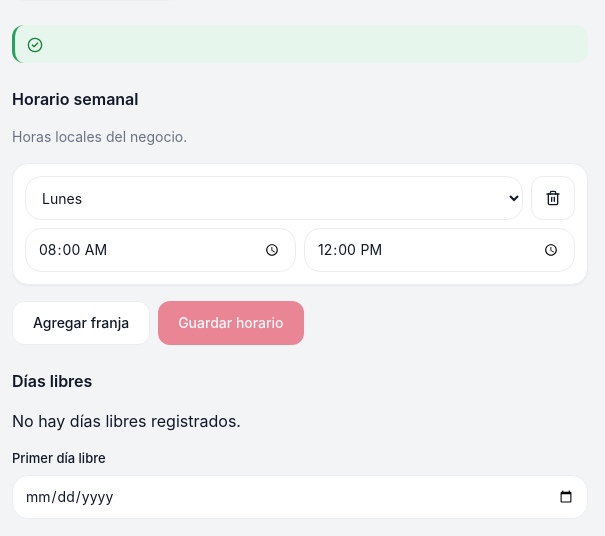
Test: TechnicianDetailPage: horario semanal › muestra error en las franjas solapadas y no envía nada
(page scrolled)
Check: the time field named "Inicio de la franja 1" is shown, box [25,228,296,272]
Click the button "Agregar franja" at (81, 323), box [12,301,150,345]
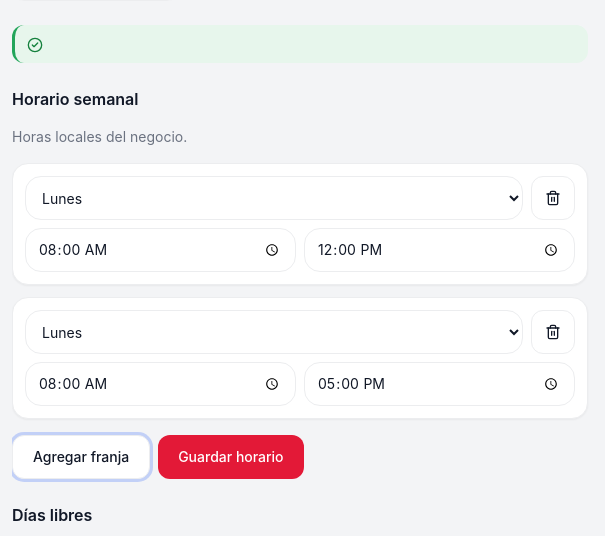
Replace the text in the time field named "Inicio de la franja 2" with "11:00" at (160, 384), box [25,362,296,406]
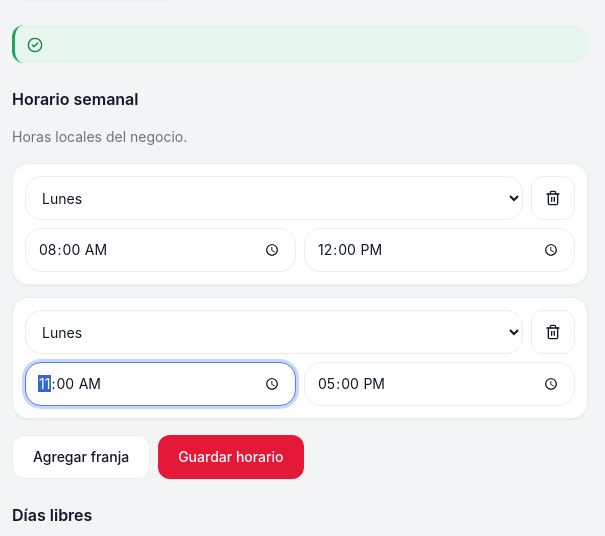
Click the button "Guardar horario" at (231, 457), box [158,435,304,479]
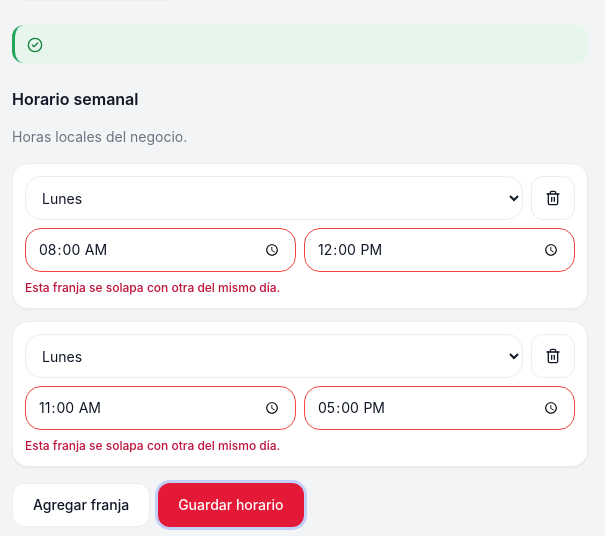
Check: the text "Esta franja se solapa con otra del mismo día." is shown 2 times, box [25,280,280,295]; [25,438,280,453]
